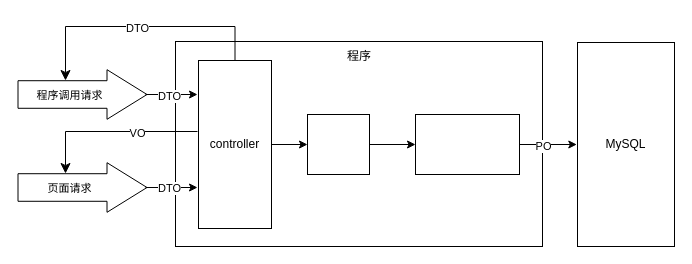
Image size: 692x264. Some labels were removed from this diagram. The centre of each missing label's shape, as x and y in pixels:
DAO: point 467,144
service BO 处理: point 338,144
